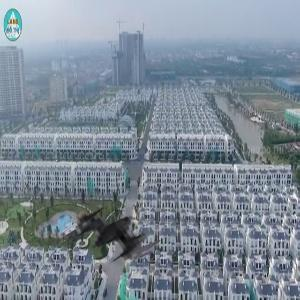drone: (69, 182, 167, 280)
